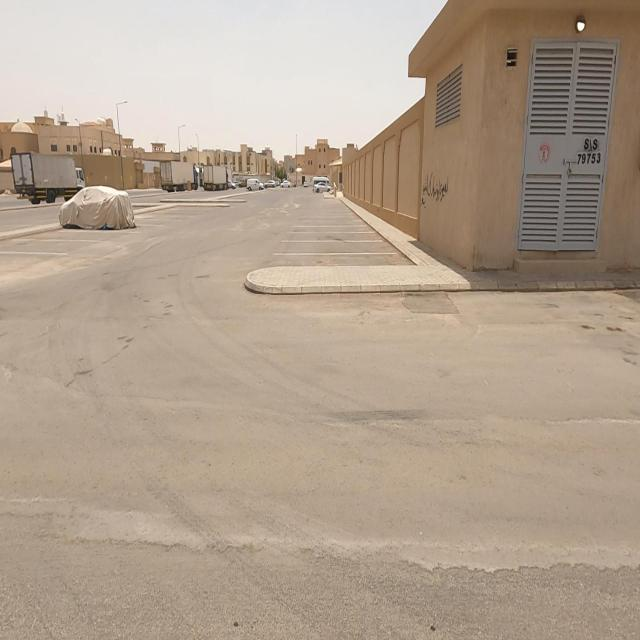Graffiti: (422, 174, 451, 212)
